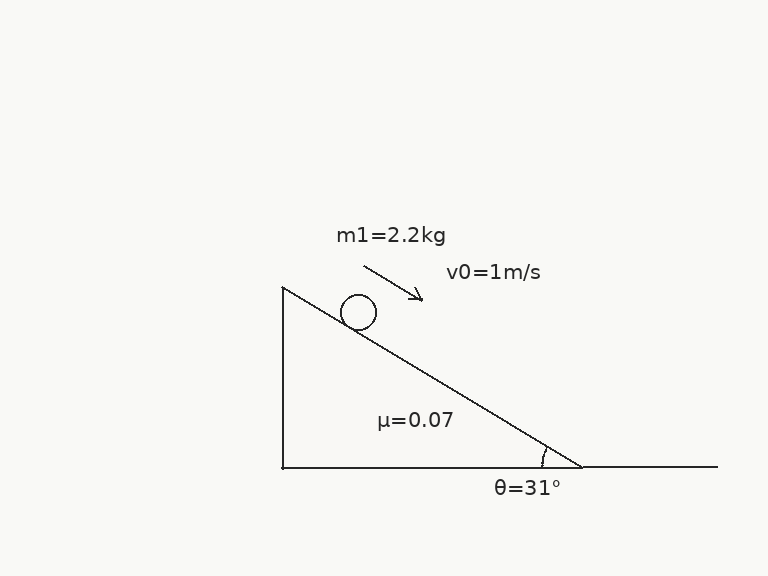ball: (338, 292, 378, 332)
ramp: (280, 285, 584, 469)
